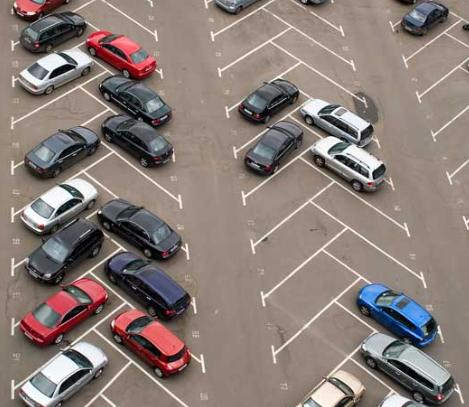Car: (122, 319, 178, 360), (115, 204, 168, 246), (368, 281, 420, 322), (35, 129, 92, 166), (32, 48, 87, 82), (379, 349, 435, 382), (245, 126, 288, 165), (330, 152, 374, 189), (115, 264, 166, 294), (318, 376, 366, 407), (48, 289, 89, 323), (53, 237, 94, 268), (99, 33, 137, 66), (47, 359, 90, 388), (22, 19, 77, 41), (38, 185, 79, 214), (107, 124, 150, 148), (119, 80, 152, 109), (308, 111, 368, 126), (406, 10, 436, 33), (256, 84, 282, 105), (224, 0, 242, 21), (388, 394, 417, 407), (13, 6, 55, 13), (314, 0, 317, 6)
Empty: (293, 324, 345, 366), (260, 174, 298, 215), (112, 159, 149, 194), (278, 228, 316, 262), (302, 38, 344, 68), (290, 267, 325, 301), (237, 48, 271, 82), (40, 98, 86, 123), (437, 79, 462, 122), (123, 368, 150, 406), (294, 9, 330, 37), (354, 205, 391, 232), (237, 17, 272, 45), (409, 52, 450, 73), (102, 8, 131, 35), (296, 73, 350, 86), (355, 248, 387, 265), (449, 124, 464, 152), (133, 6, 152, 10)
